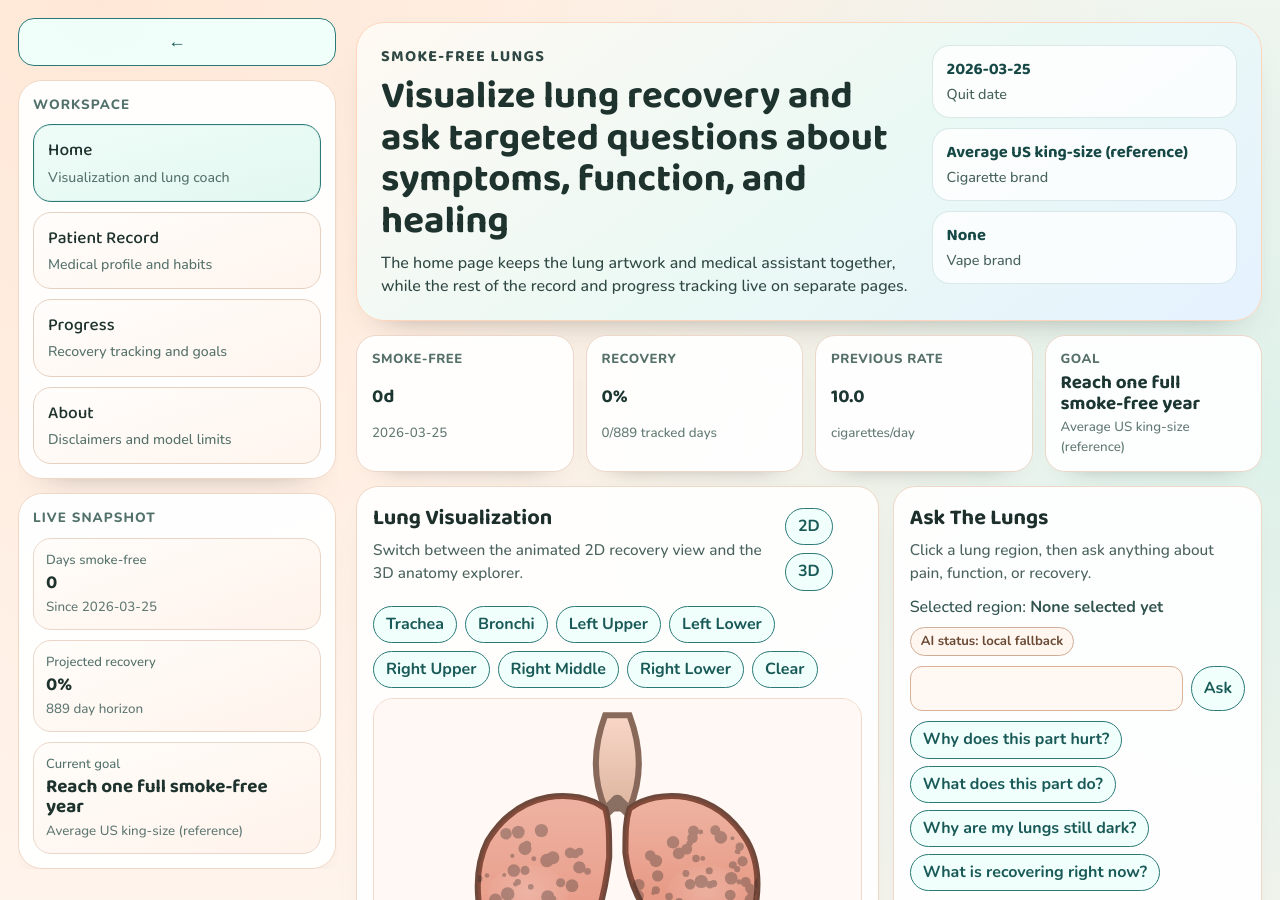
it: App › navigates to the about page and shows disclaimers
This screenshot has width=1280, height=900.
Click the button "About Disclaimers and model limits": x=71, y=413 [33,387,321,464]
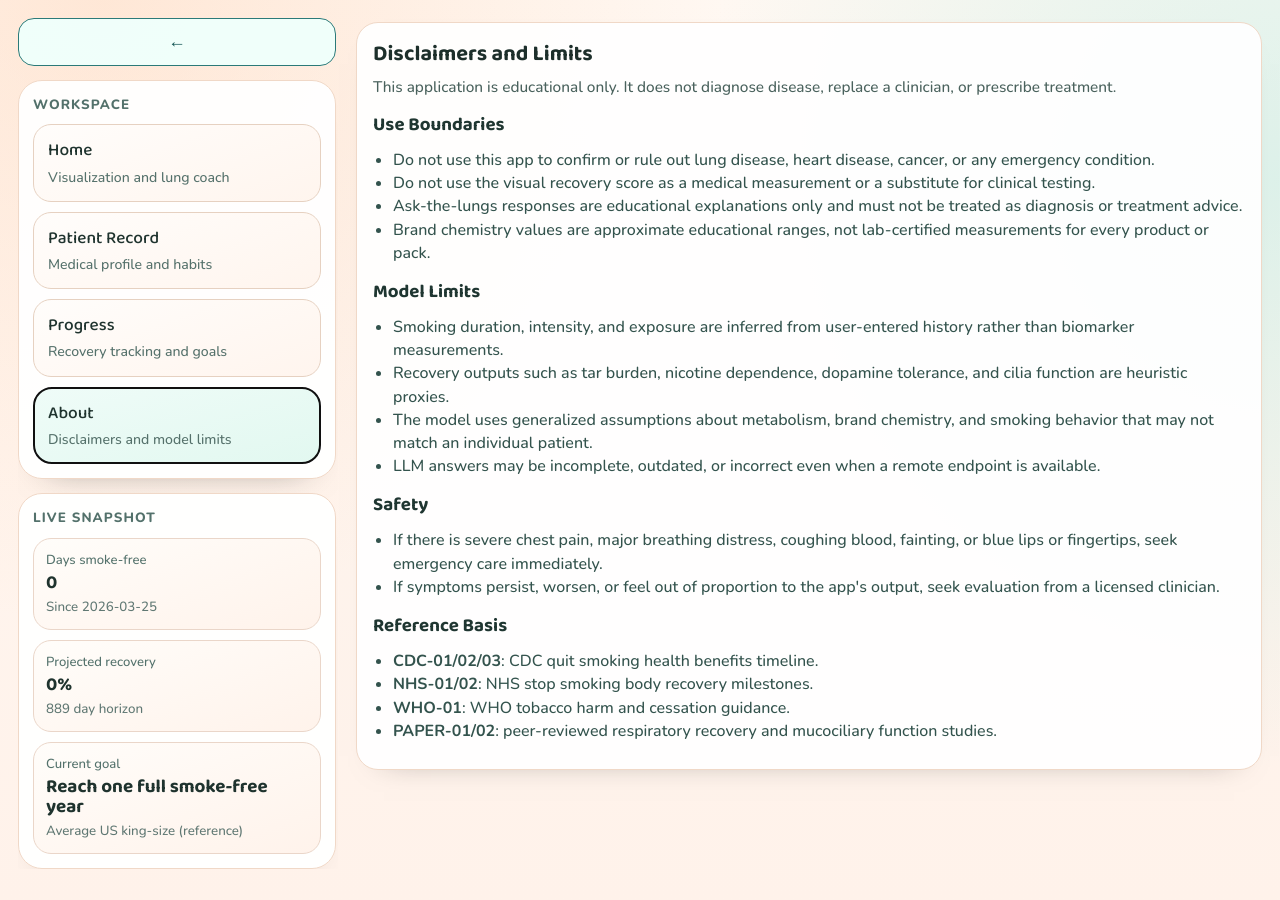
Result: the heading "Disclaimers and Limits" is shown at [373,37,593,71]
Result: the text "educational only" is shown at [373,76,1116,96]
